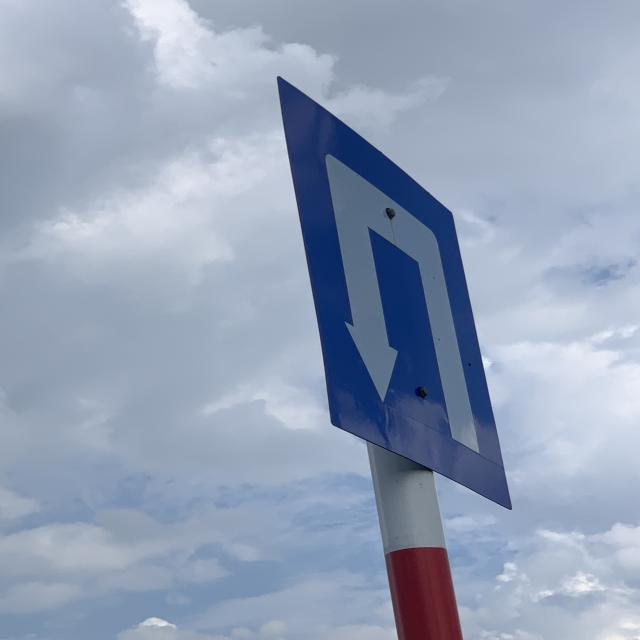Den_Giao_Thong: (279, 78, 514, 510)
